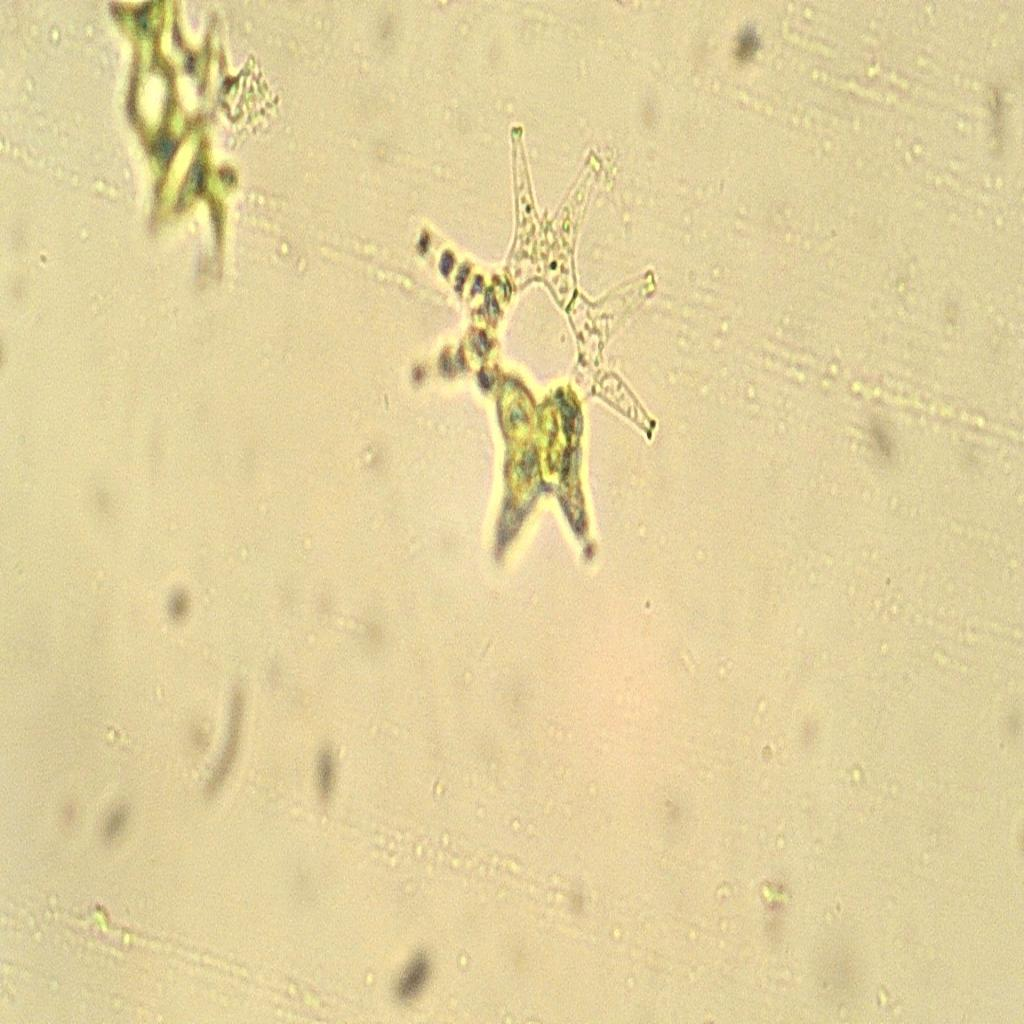Pediastrum_75TH: (376, 77, 691, 608)
